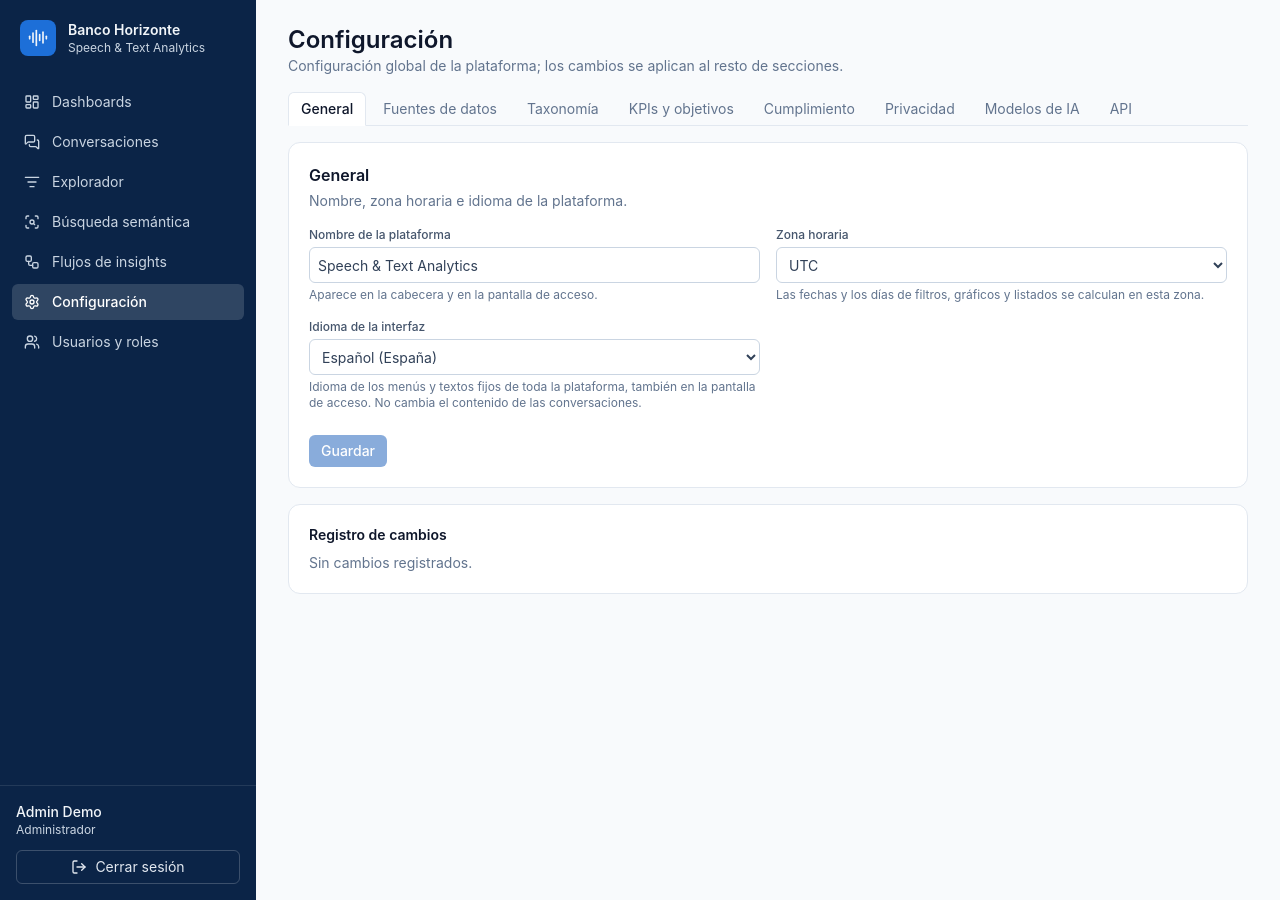
Idioma de la interfaz (FE016) › guardar English en Configuración › General cambia los menús sin recargar
The image size is (1280, 900).
Select "English (United States)" in the dropdown labelled "Idioma de la interfaz" at (534, 357), box [309,339,760,375]
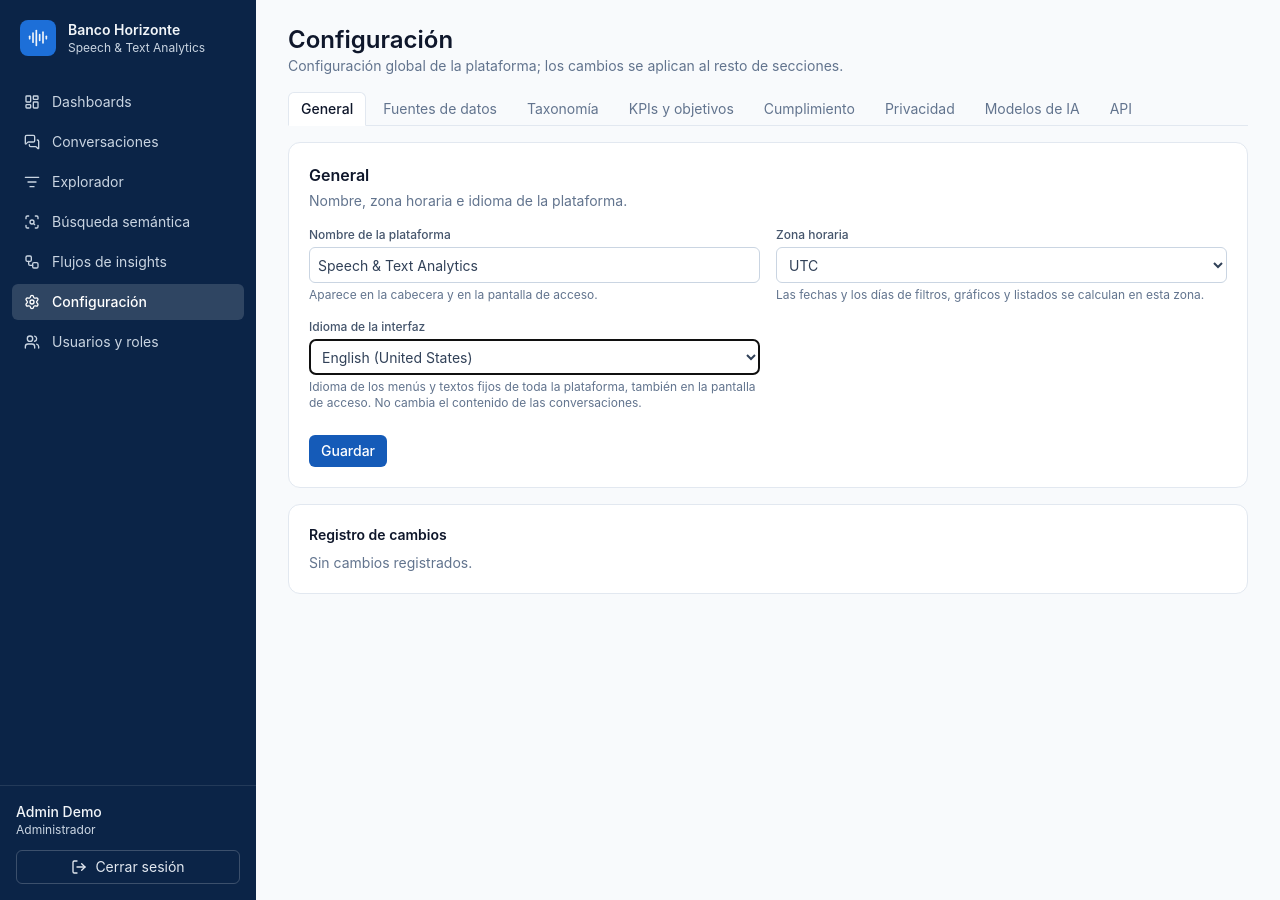
Click the button "Guardar" at (348, 451), box [309,435,387,467]
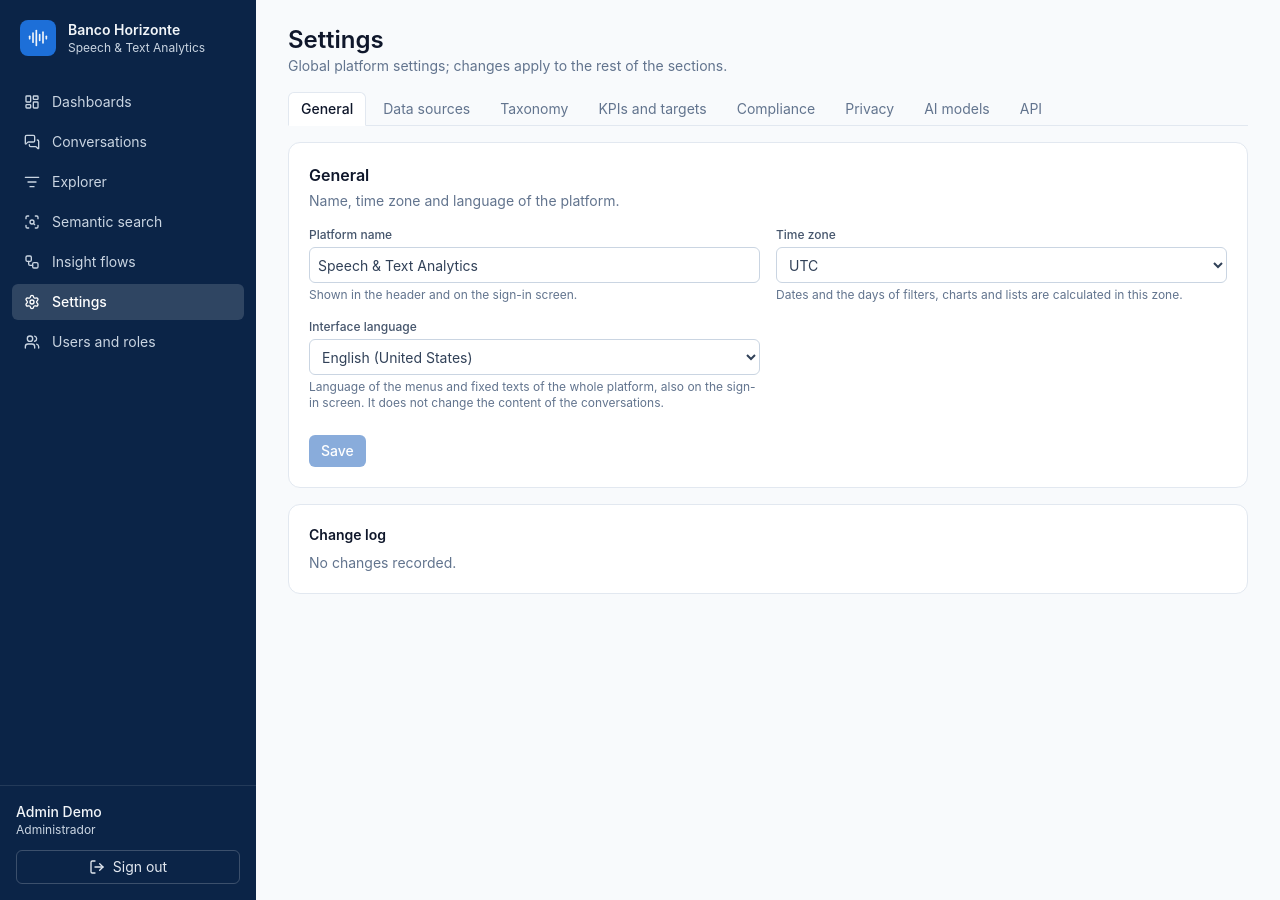
expect the link "Semantic search" is shown: met, box [24,213,162,230]
expect the button "Sign out" is shown: met, box [16,850,240,884]
